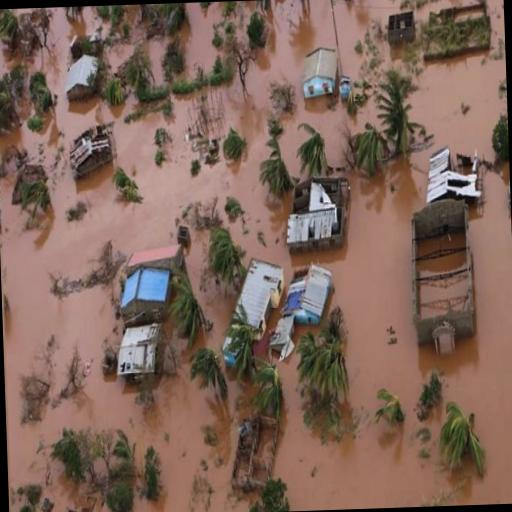flood: (0, 0, 399, 512), (271, 160, 512, 511), (329, 148, 466, 413), (0, 6, 138, 200), (407, 0, 507, 162), (183, 230, 234, 349), (98, 16, 169, 83), (176, 2, 218, 75)
house: (413, 193, 473, 324), (114, 240, 186, 322), (232, 259, 281, 341), (286, 178, 342, 248), (430, 148, 480, 207), (116, 322, 160, 380), (290, 268, 332, 328), (295, 46, 338, 102), (69, 128, 114, 174), (62, 54, 100, 104), (385, 6, 413, 48)
